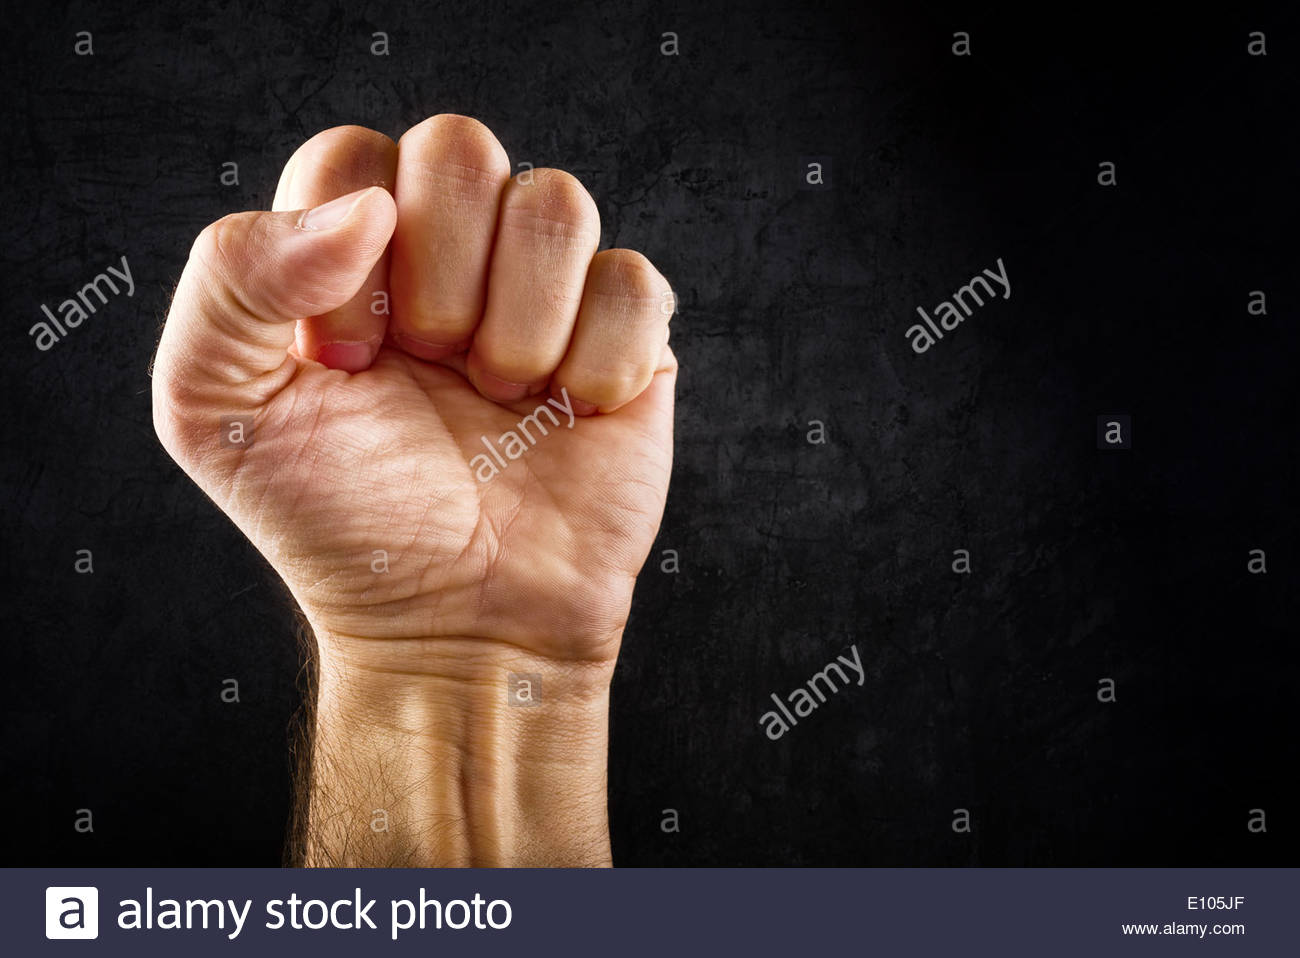fist: (148, 106, 689, 673)
